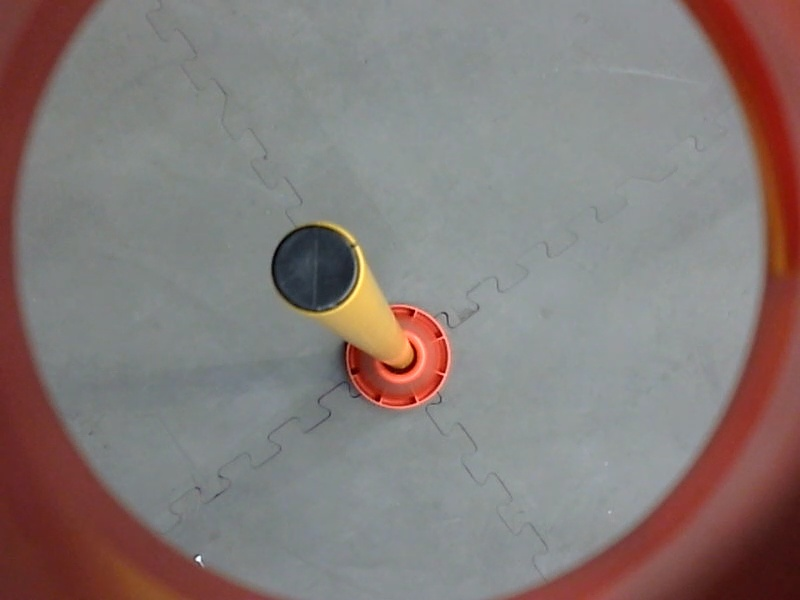tip: (264, 216, 366, 321)
